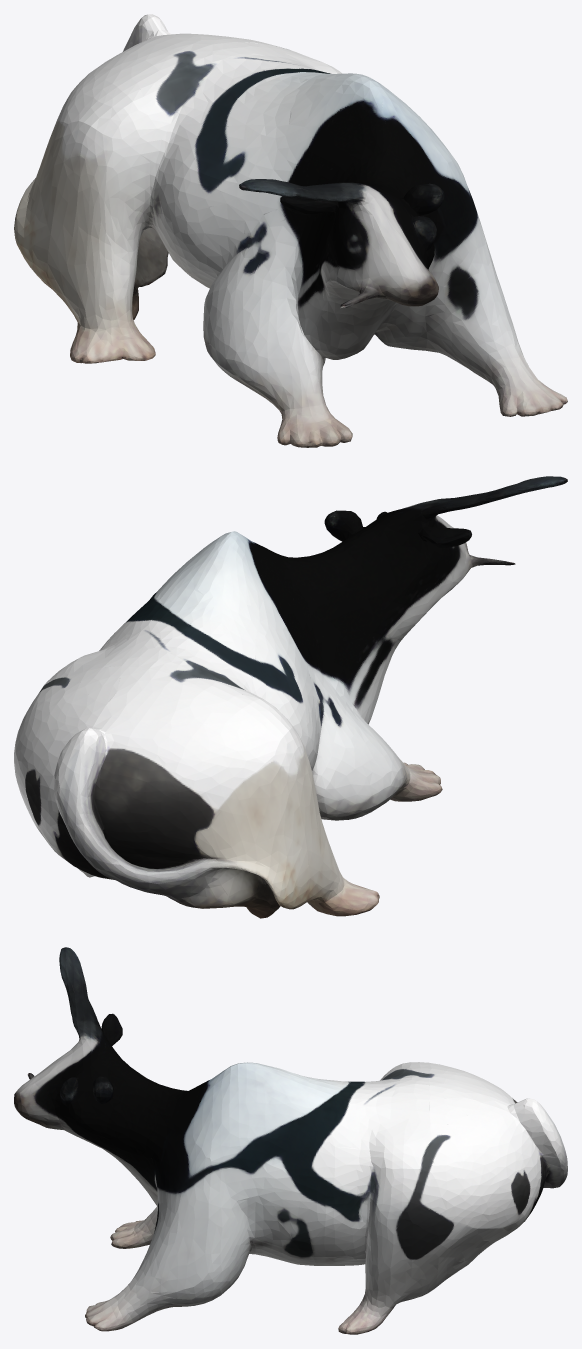
Rendered from cow_variant_1.glb.
The picture shows the model from 3 angles, top to bottom: view 1: azimuth 30°, elevation 25°; view 2: azimuth 150°, elevation 25°; view 3: azimuth 270°, elevation 25°; orthographic projection. The views are drawn at different scales.
Visible parts, largest first — view 1: world; view 2: world; view 3: world.
Part boxes in pixels (x1,y1,x2,y2): world: (14,14,567,447); world: (14,476,567,918); world: (14,947,567,1334).
Bounding box in the file's own units: 0.8636 × 0.7915 × 1.5.
Materials: 1 (1 with a texture image).
